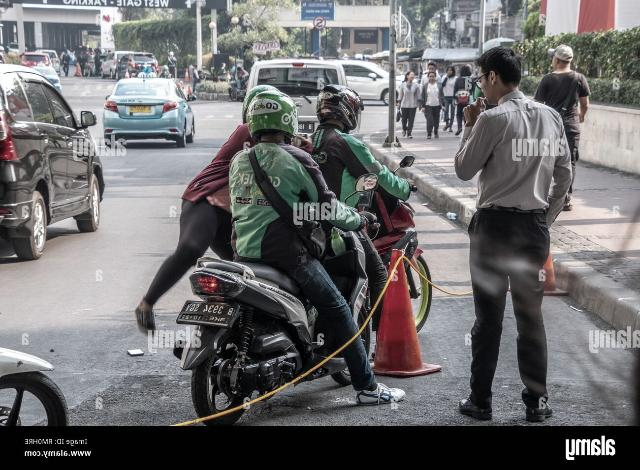helm: (242, 86, 301, 145), (314, 84, 368, 136), (429, 157, 430, 159)
motor: (165, 217, 389, 425)
